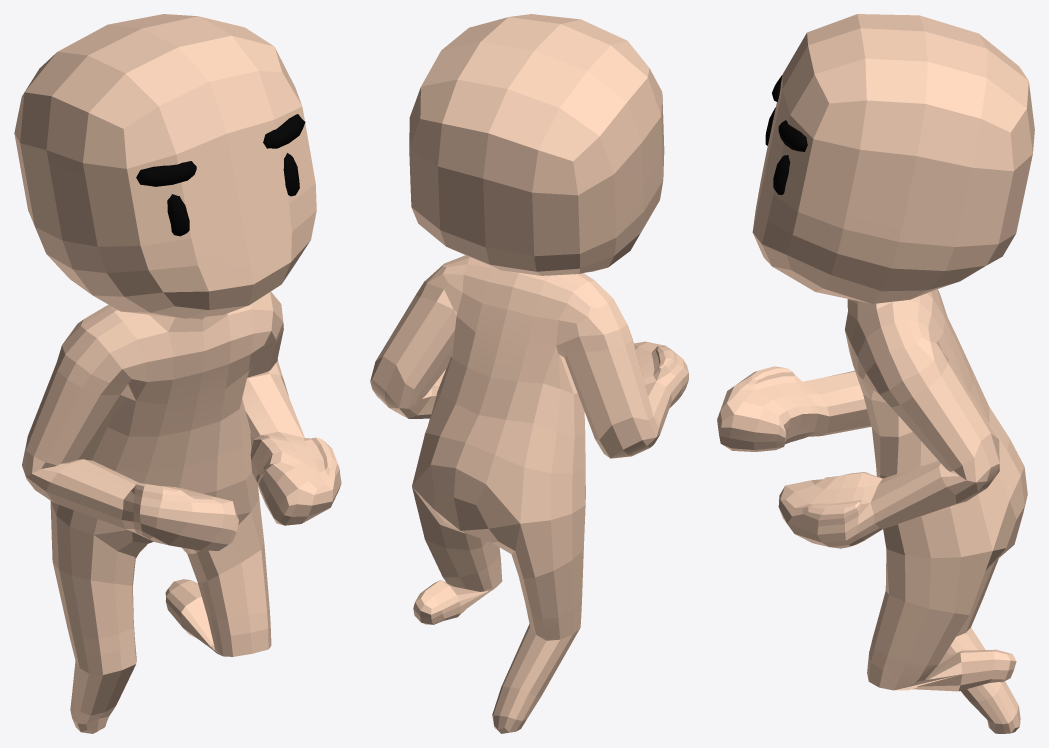
File: BlueSoldier_Female.fbx
3 views of the same model, side by side, from view 1: azimuth 30°, elevation 25°; view 2: azimuth 150°, elevation 25°; view 3: azimuth 270°, elevation 25° (orthographic). The views are drawn at different scales.
Visible parts, largest first — view 1: Body; view 2: Body; view 3: Body.
Part boxes in pixels (x1=…): Body: x1=14, y1=14, x2=341, y2=733; Body: x1=370, y1=14, x2=688, y2=733; Body: x1=717, y1=14, x2=1034, y2=733.
Bounding box in the file's own units: 121 × 300 × 121.
